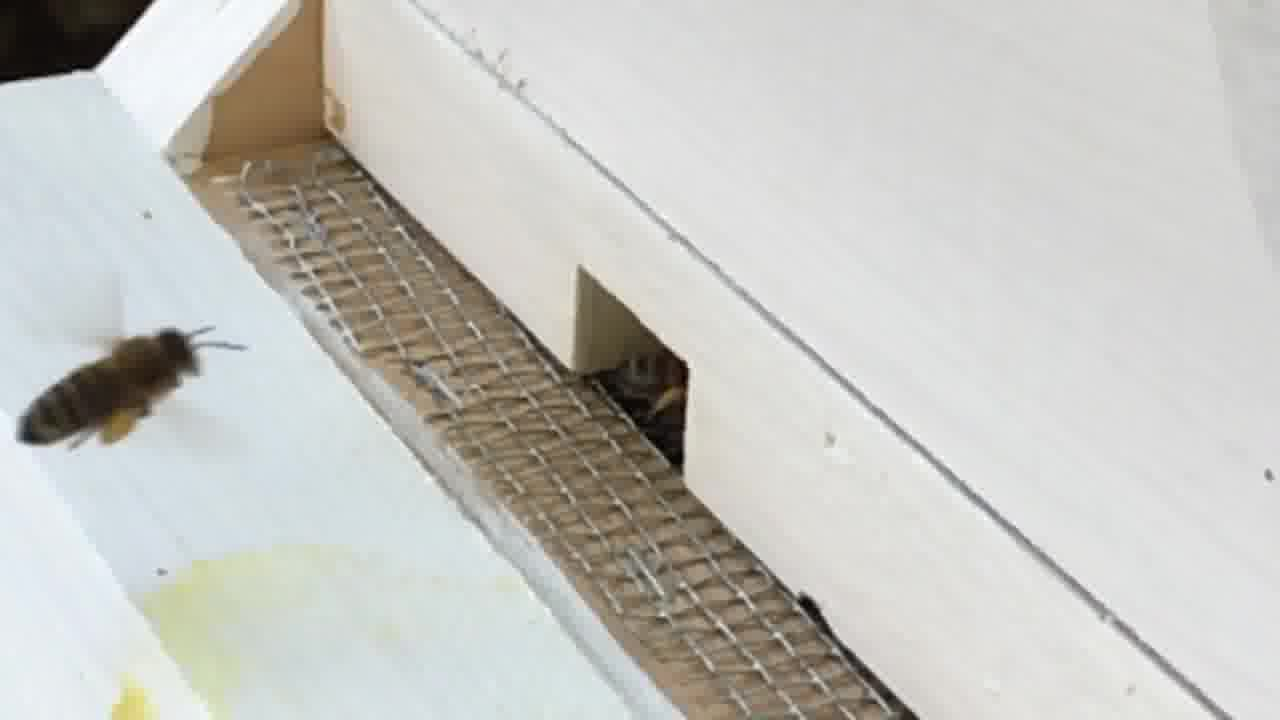pollen: (16, 325, 211, 450)
